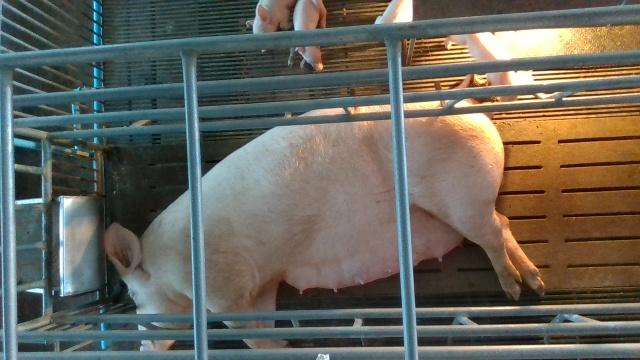piglet: (444, 31, 534, 103), (288, 0, 328, 72), (247, 0, 294, 53)
sow-sleep-lactate: (102, 97, 547, 352)
